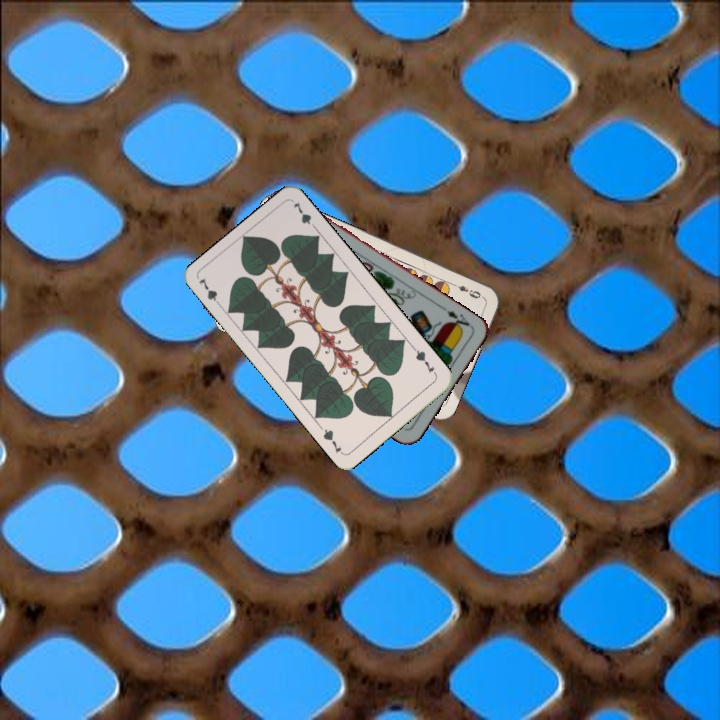E9: (447, 278, 486, 301)
EA: (439, 303, 475, 333)
G7: (194, 274, 225, 311), (409, 344, 437, 376)
